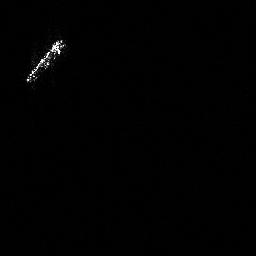ship: (23, 38, 69, 86)
